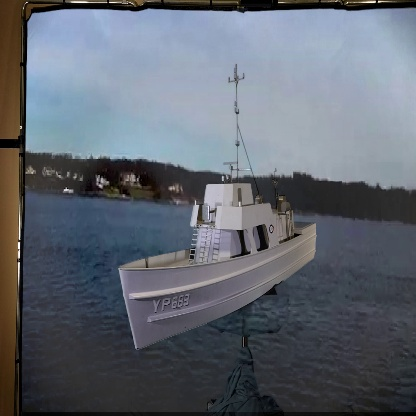YP689: (117, 66, 318, 351)
